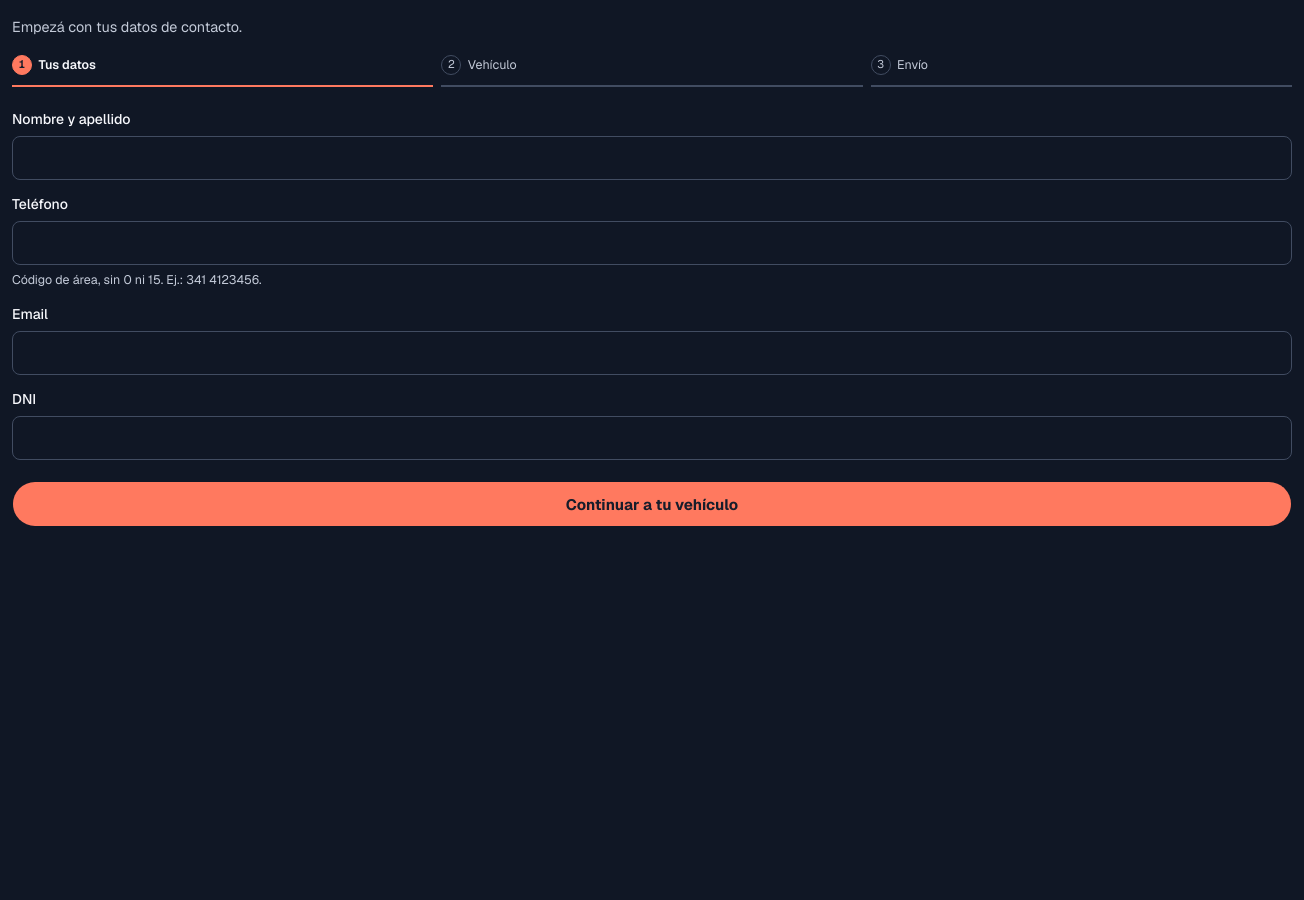
Test: LeadForm › validates the compact contact stage before revealing vehicle fields
What coordinates should you click on to do the following:
click the button "Continuar a tu vehículo"
I would click on:
 (652, 504)
Its box is 12,481 -> 1292,527.
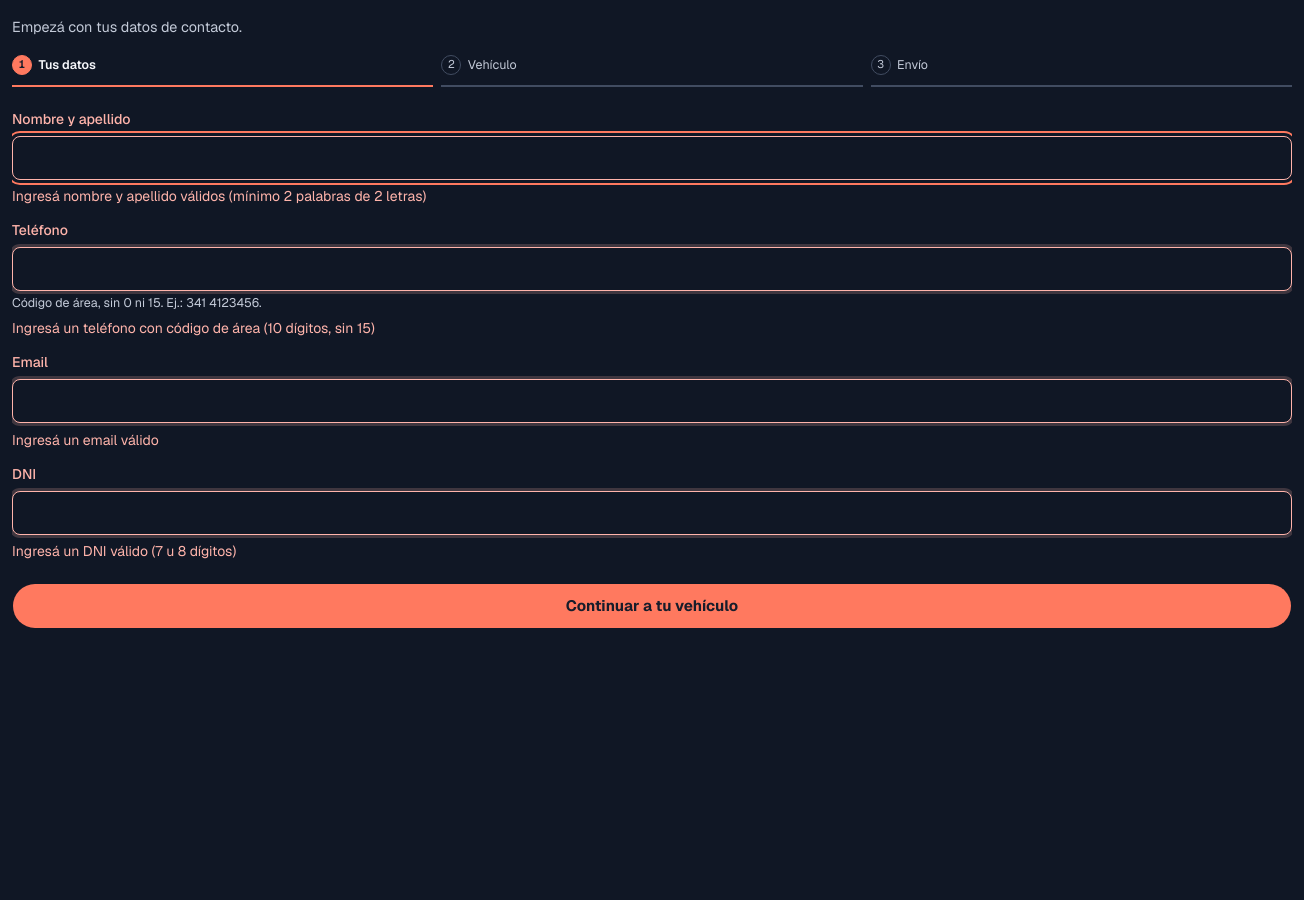
Expected: the element named "Tus datos" is shown, 12,110 -> 1292,561
Expected: the text "Ingresá nombre y apellido válidos (mínimo 2 palabras de 2 letras)" is shown, 12,187 -> 426,205
